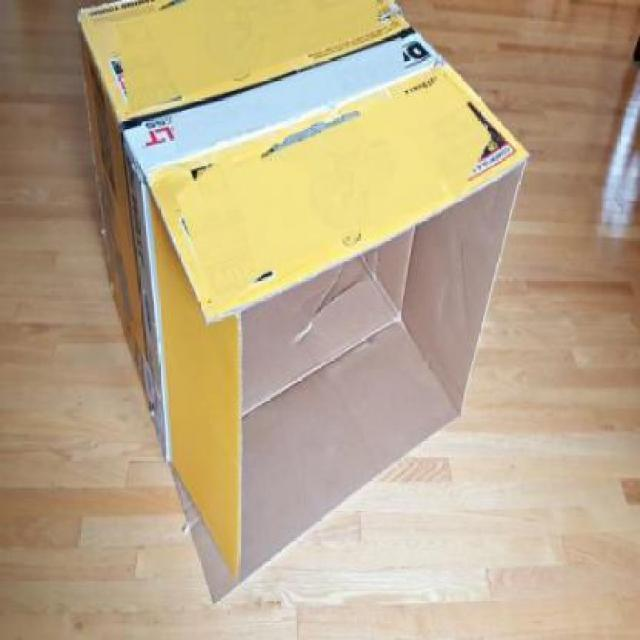box: (78, 4, 522, 612)
